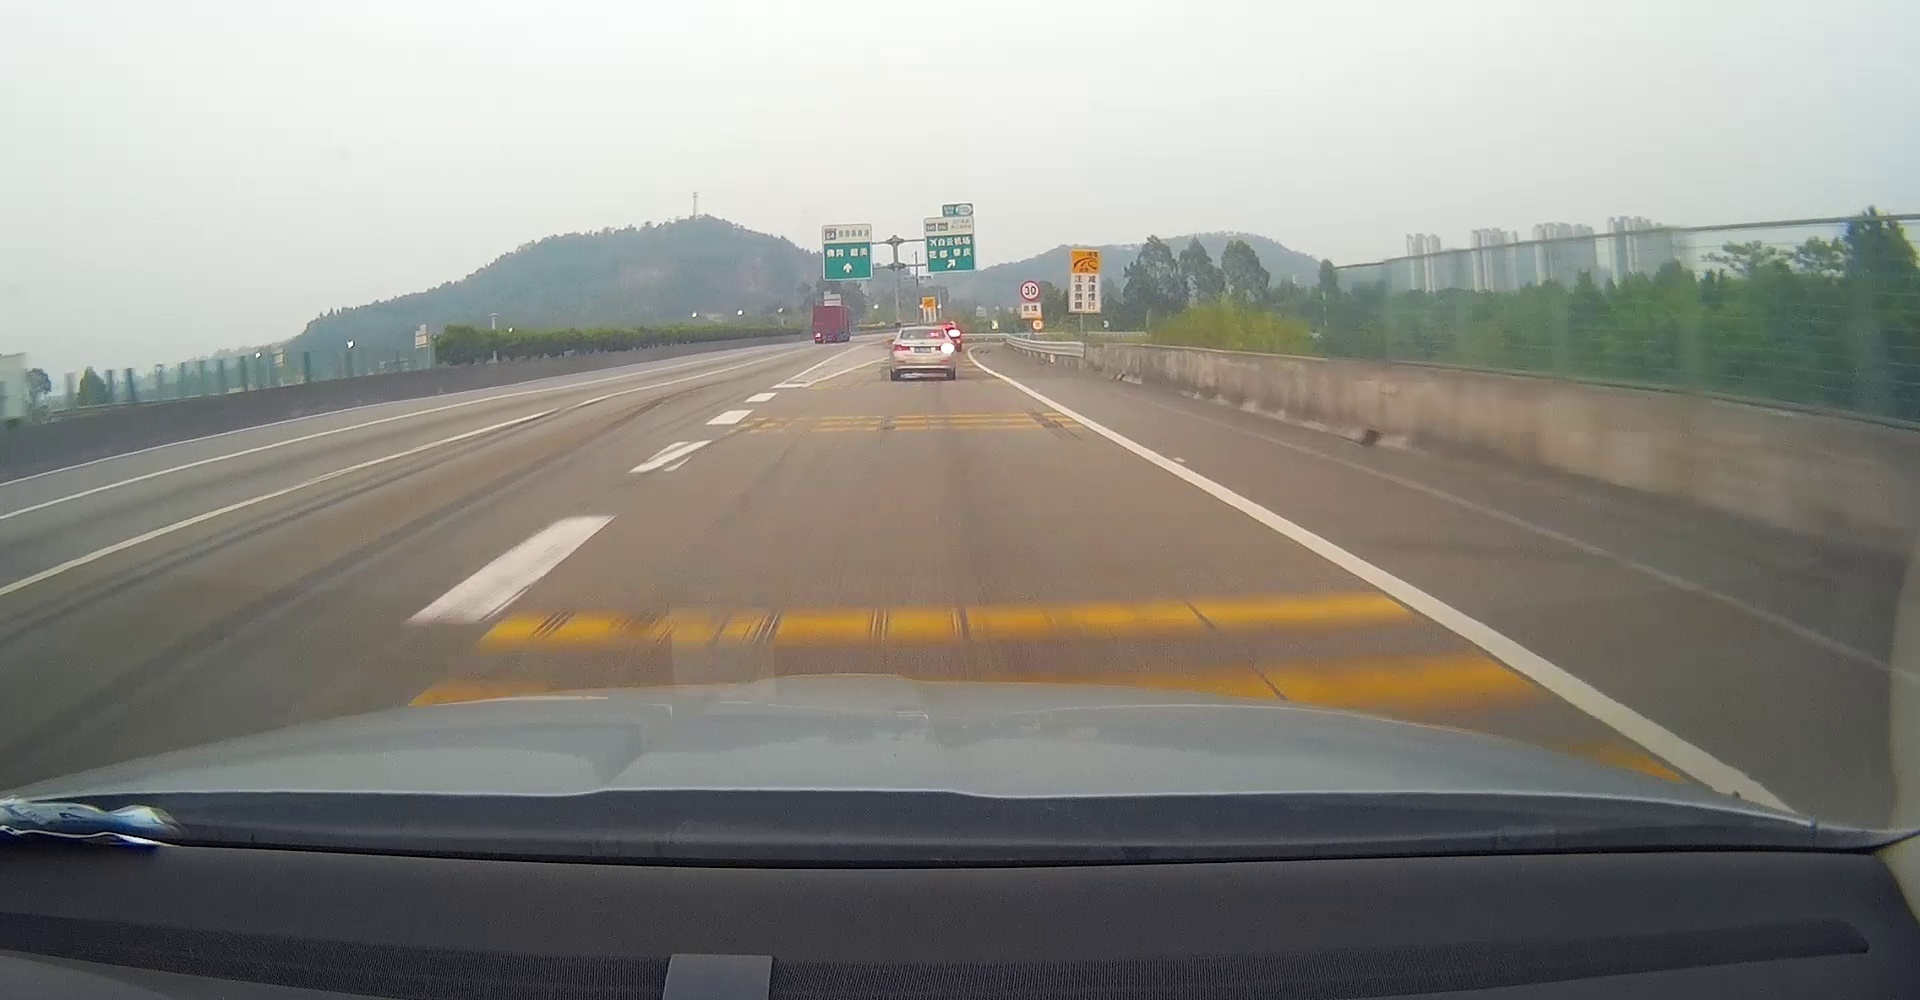L_light: (893, 344, 910, 352)
R_light: (935, 344, 954, 352)
T_light: (919, 329, 927, 332)
day-right: (890, 326, 956, 379)
